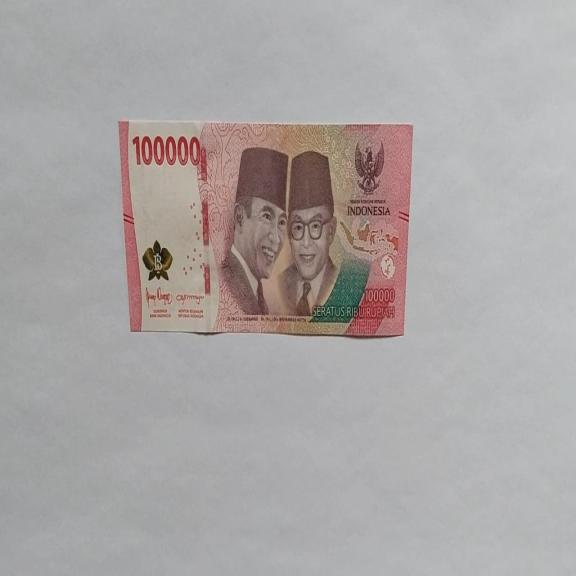Kertas: (118, 118, 414, 338), (131, 131, 201, 168)
